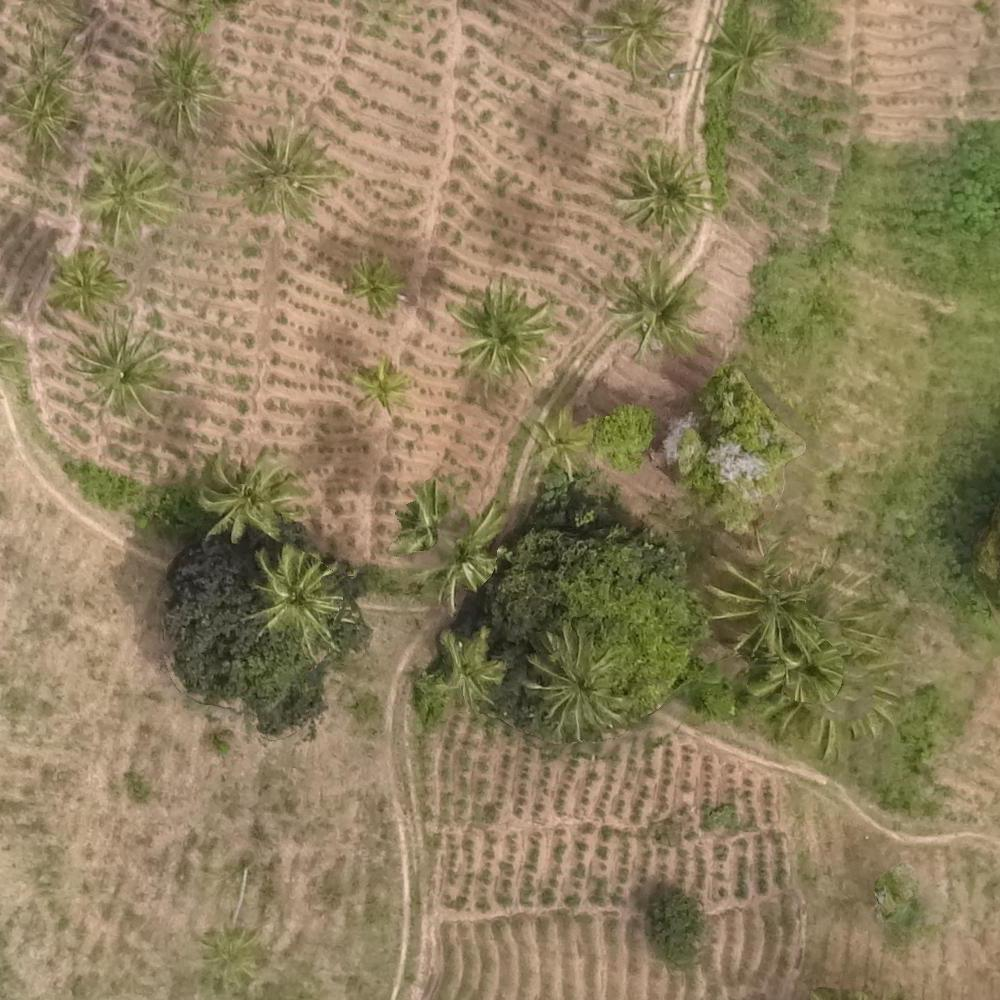Palm: (718, 549, 832, 651), (528, 625, 633, 730), (453, 277, 548, 379), (245, 548, 344, 641), (233, 124, 329, 216), (620, 146, 716, 234), (608, 257, 701, 347), (74, 327, 169, 414), (204, 450, 297, 538), (582, 1, 681, 78), (93, 150, 177, 239), (133, 48, 220, 129), (701, 10, 784, 84), (427, 633, 503, 709), (3, 80, 78, 155), (50, 250, 124, 312), (525, 404, 591, 472), (341, 258, 404, 313), (349, 357, 407, 409)
